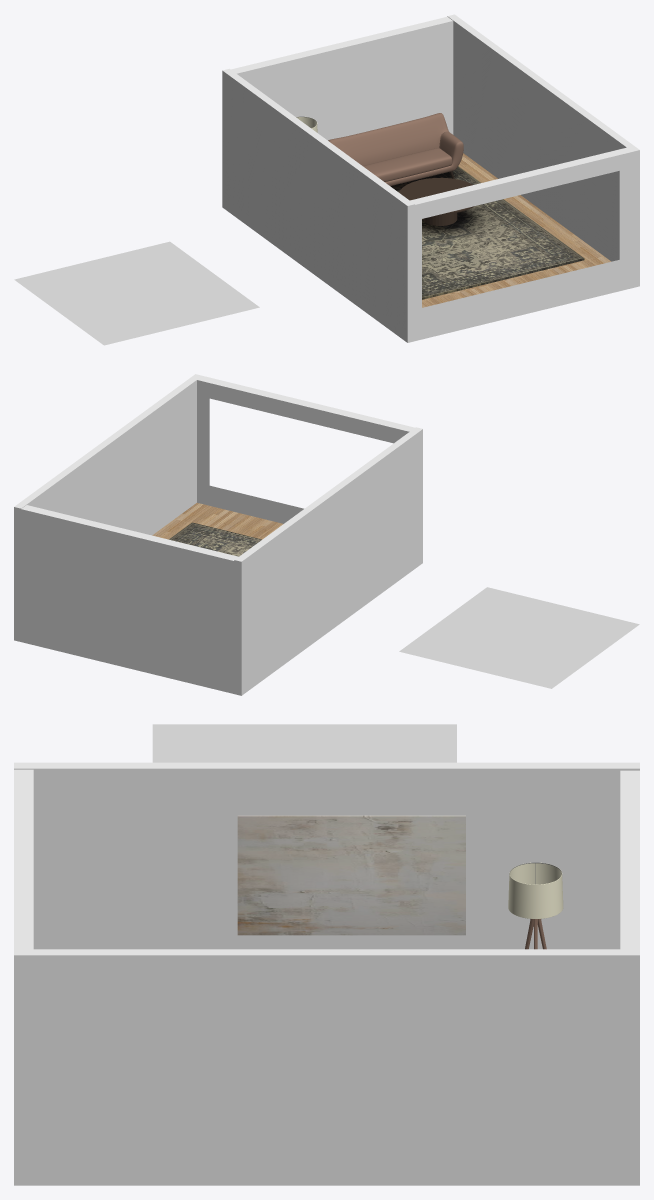
File: project1.glb
3 views of the same model, one above another, from view 1: azimuth 30°, elevation 25°; view 2: azimuth 150°, elevation 25°; view 3: azimuth 270°, elevation 25° (orthographic). The views are drawn at different scales.
Parts seen in each view (by area): view 1: Cube, Plane.001, rug, sofa_mesh_n3d, Plane, pillow_002_mesh_n3d, table; view 2: Cube, Plane.001, Plane, rug; view 3: Cube, paint, Plane.001, cover_mesh_n3d.
Boxes of the visible parts, x1,y1,x2,y2 form: Cube: [222, 14, 639, 342]; Plane.001: [14, 241, 259, 345]; rug: [390, 166, 584, 299]; sofa_mesh_n3d: [328, 113, 463, 186]; Plane: [422, 153, 610, 307]; pillow_002_mesh_n3d: [363, 148, 452, 181]; table: [399, 177, 474, 225]; Cube: [14, 374, 422, 695]; Plane.001: [399, 587, 639, 688]; Plane: [152, 503, 283, 539]; rug: [169, 522, 261, 556]; Cube: [14, 762, 639, 1185]; paint: [237, 815, 465, 935]; Plane.001: [152, 724, 456, 762]; cover_mesh_n3d: [508, 862, 563, 918].
Bounding box in the file's own units: 134 × 35.79 × 87.05.
12 materials, 3 textured.
